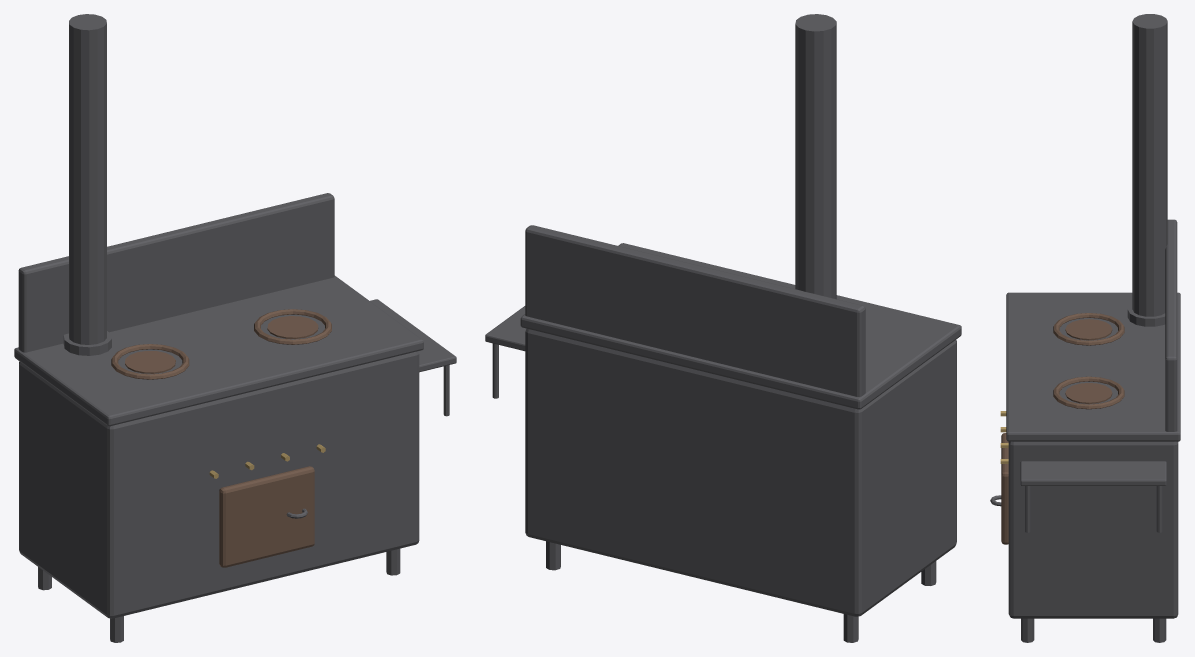
3 renders of one model, left to right at view 1: azimuth 30°, elevation 25°; view 2: azimuth 150°, elevation 25°; view 3: azimuth 270°, elevation 25°, orthographic. The views are drawn at different scales.
Visible parts, largest first — view 1: kitchenRange; view 2: kitchenRange; view 3: kitchenRange.
Boxes of the visible parts, x1,y1,x2,y2 form: kitchenRange: (14,14,456,642); kitchenRange: (485,14,961,642); kitchenRange: (990,14,1180,642).
Size of the model in its own units: 1.6 by 2.4 by 0.809.
